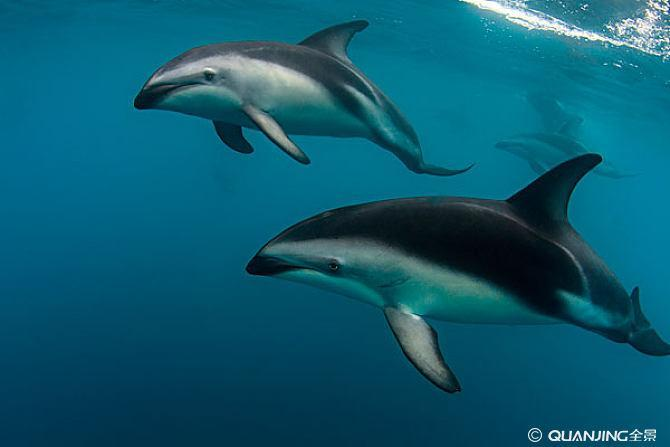fish: (243, 151, 670, 394), (133, 17, 479, 179)
